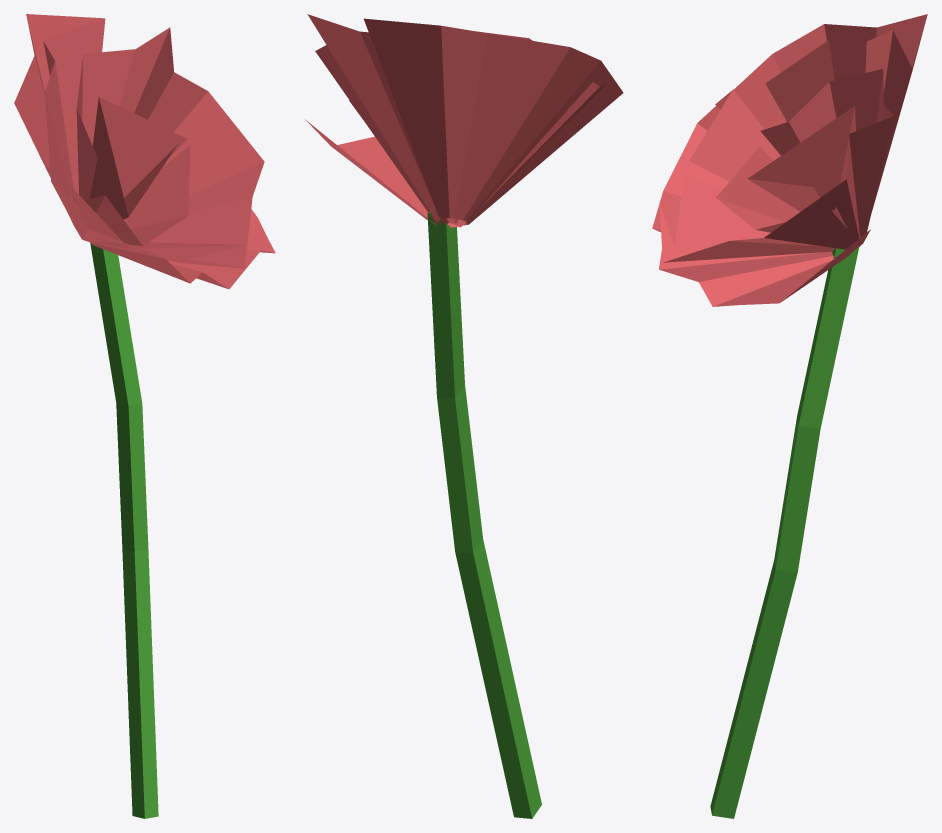
The model's file is flower_1.fbx.
The picture shows the model from 3 angles, left to right: view 1: azimuth 30°, elevation 25°; view 2: azimuth 150°, elevation 25°; view 3: azimuth 270°, elevation 25°; orthographic projection. The views are drawn at different scales.
Visible parts, largest first — view 1: bookshelf flower 2; view 2: bookshelf flower 2; view 3: bookshelf flower 2.
Part boxes in pixels (left/top/right/bottom): bookshelf flower 2: left=14, top=14, right=275, bottom=818; bookshelf flower 2: left=305, top=14, right=623, bottom=818; bookshelf flower 2: left=652, top=14, right=927, bottom=818.
Size of the model in its own units: 529 by 1669 by 528.
